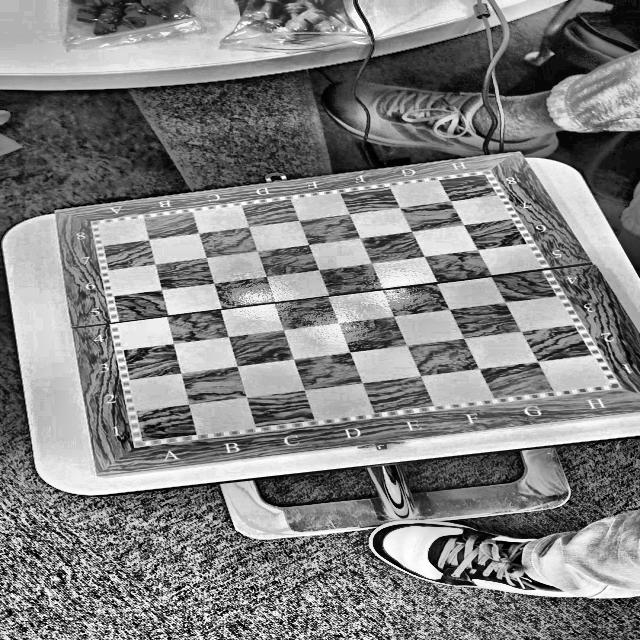chessboard: (61, 149, 638, 466)
